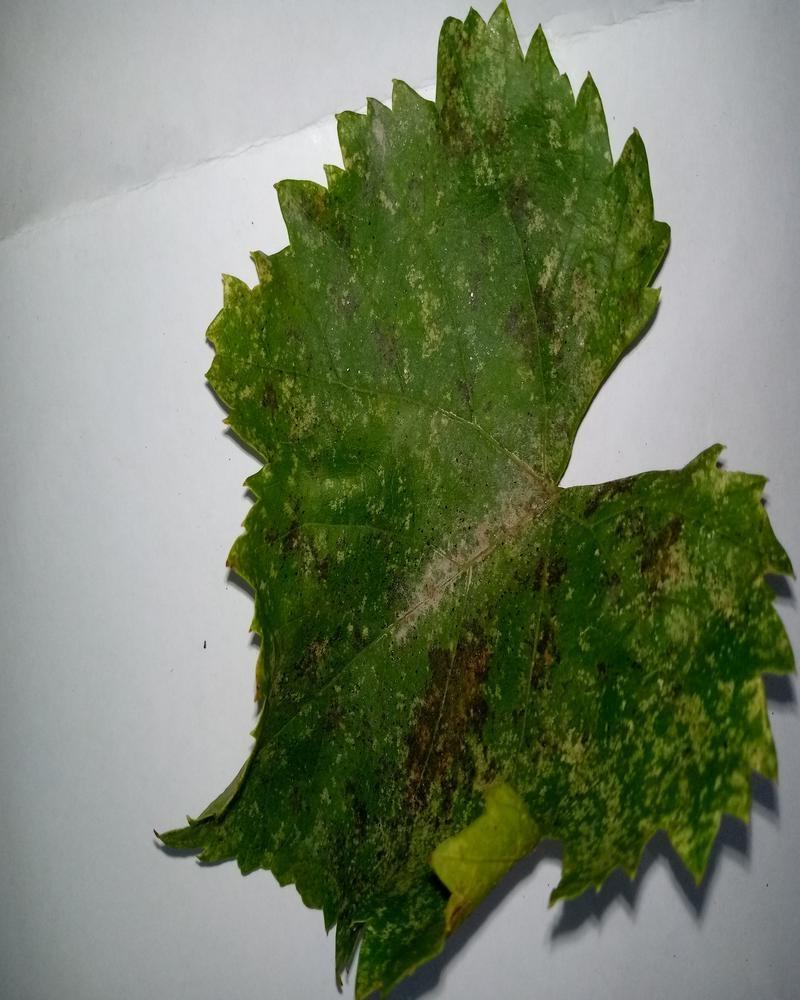Powdery-Mildew: (426, 13, 658, 359), (556, 671, 769, 855), (359, 727, 532, 946), (381, 463, 571, 652), (269, 338, 396, 465), (647, 507, 774, 634)
